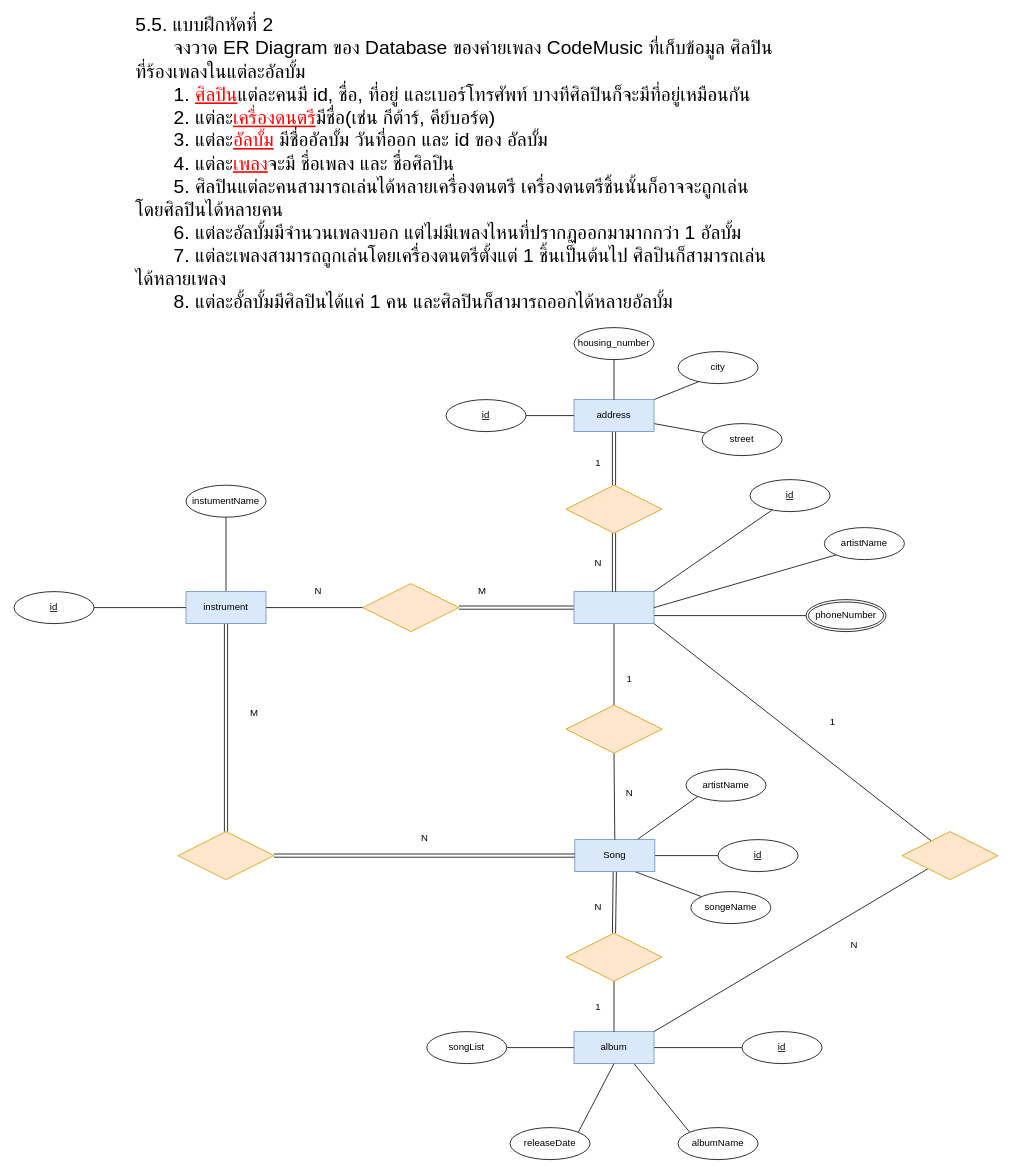
Some shapes in this 1012 by 1174 pixel diagram are drawn without their labels. Here are the shapes that lost their labels. From the top down, the box of each, then its label:
(565, 484, 662, 533): live in
(362, 583, 459, 632): use
(573, 591, 654, 624): Artist
(565, 704, 662, 753): perform
(177, 831, 274, 880): play
(901, 831, 998, 880): release
(565, 932, 662, 981): in
